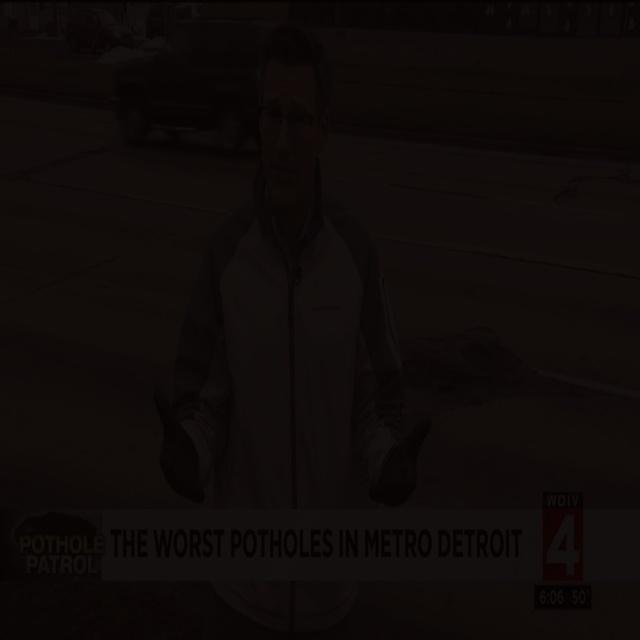Pothole: (402, 316, 589, 414), (556, 165, 640, 215)
